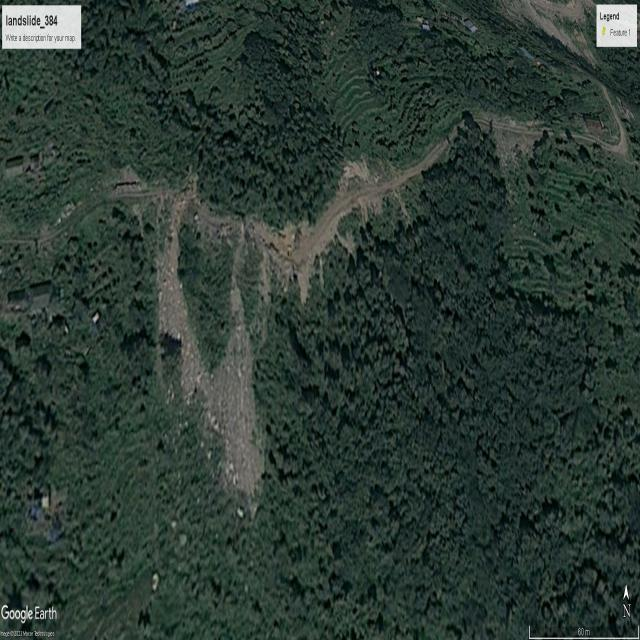Landslide: (214, 264, 271, 526), (154, 178, 204, 402)
